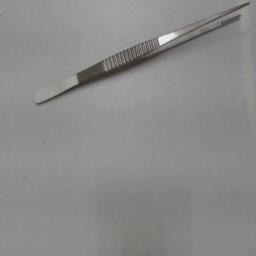DeBakey Dissector: (32, 0, 252, 116)
